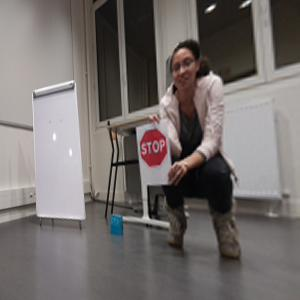stop: (139, 128, 168, 167)
